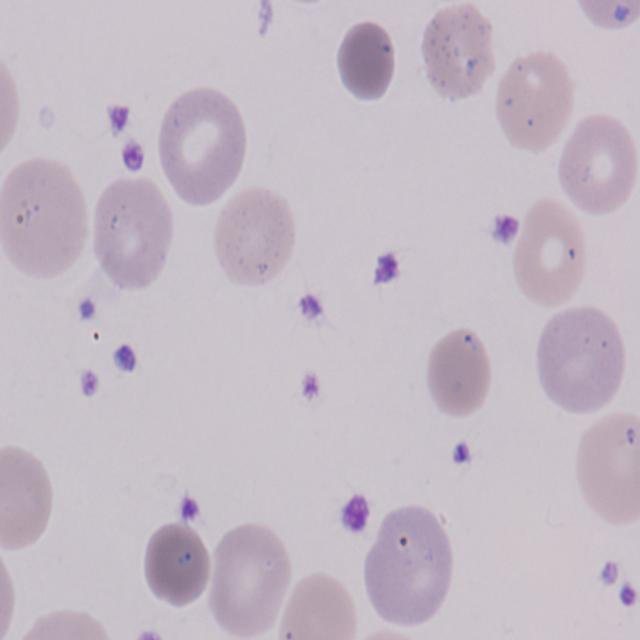RBC: (364, 482, 457, 628), (0, 158, 93, 288), (152, 85, 250, 206), (532, 296, 628, 416), (88, 172, 176, 296), (209, 517, 292, 640), (208, 186, 300, 289), (511, 200, 592, 314), (492, 51, 576, 159), (558, 108, 640, 217), (414, 6, 500, 104), (571, 412, 640, 530), (420, 329, 492, 424), (0, 442, 58, 554), (280, 569, 359, 640), (0, 34, 25, 174), (0, 544, 20, 640)
Spherocyte: (140, 520, 212, 610), (329, 21, 402, 108)
